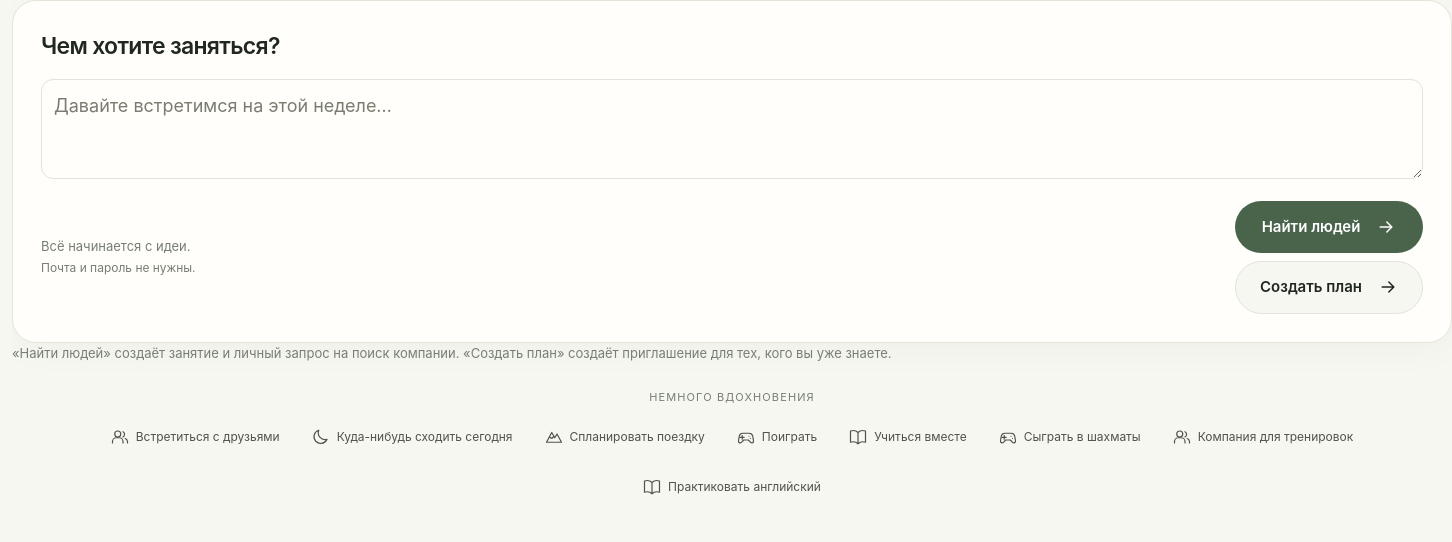
Test: persistent intent composer › explains blank submissions and focuses the idea
Click the button "Создать план": (1329, 287) [1235,261,1423,314]
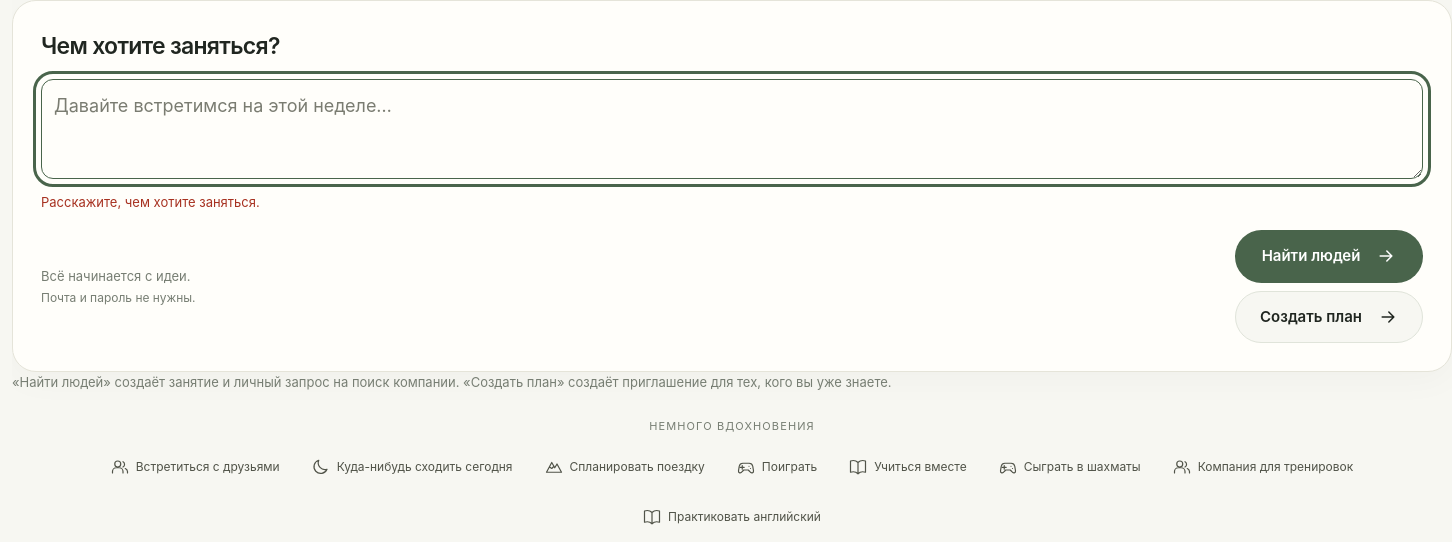
Expected: the message reads "Расскажите, чем хотите заняться.", [41,194,260,210]
